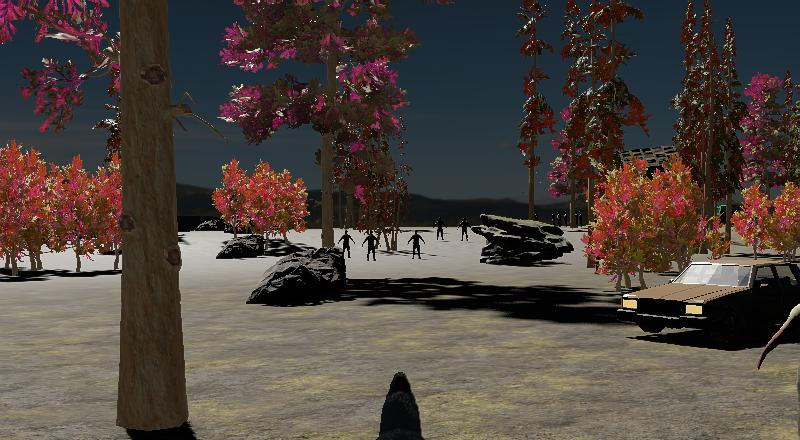Human: (755, 264, 800, 440)
car: (618, 253, 800, 348)
